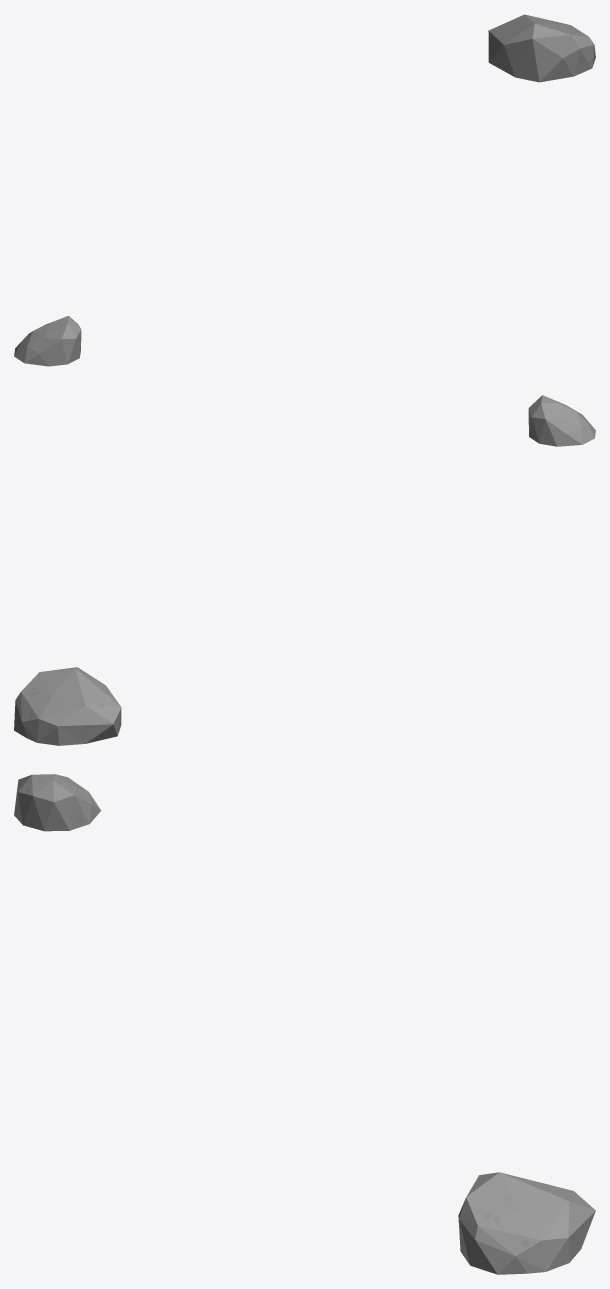
The model's file is Stones7.gltf.
3 renders of one model, top to bottom at view 1: azimuth 30°, elevation 25°; view 2: azimuth 210°, elevation 25°; view 3: azimuth 270°, elevation 25°, orthographic. The views are drawn at different scales.
Parts seen in each view (by area): view 1: Stone4 - copy.007, Stone1.004 - copy.005; view 2: Stone4 - copy.007, Stone1.004 - copy.005; view 3: Stone4 - copy.007, Stone1.004 - copy.005.
Boxes of the visible parts, <box> form: Stone4 - copy.007: <box>488,14,595,82</box>; Stone1.004 - copy.005: <box>14,316,81,366</box>; Stone4 - copy.007: <box>14,667,121,745</box>; Stone1.004 - copy.005: <box>528,395,595,446</box>; Stone4 - copy.007: <box>458,1172,595,1274</box>; Stone1.004 - copy.005: <box>14,774,101,831</box>.
Bounding box in the file's own units: 16.21 × 1.01 × 8.31.
2 materials, 2 textured.
